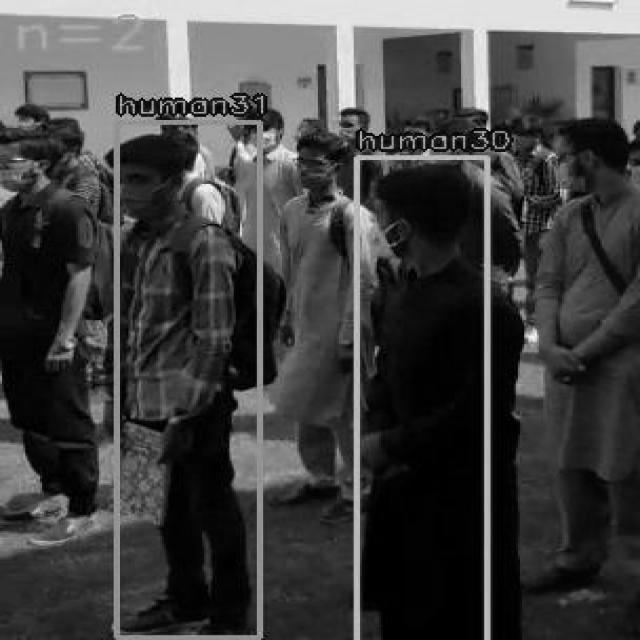person: (113, 120, 260, 637), (354, 155, 486, 640)
